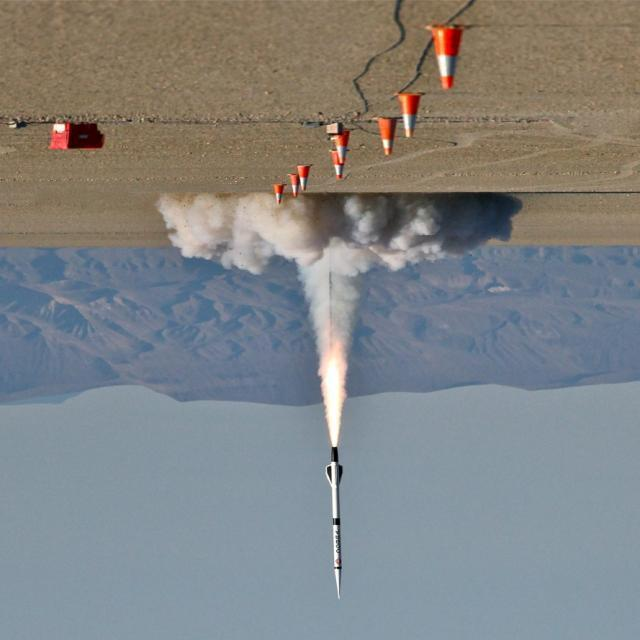missile: (322, 447, 357, 597)
